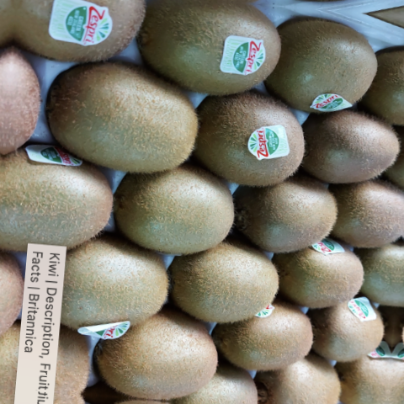kiwi: (38, 46, 221, 189), (37, 227, 185, 348), (0, 131, 129, 260), (138, 0, 291, 108), (75, 299, 230, 404), (159, 231, 293, 333), (187, 95, 313, 190), (283, 97, 404, 195), (208, 288, 323, 377), (268, 229, 370, 320), (247, 176, 350, 262)
